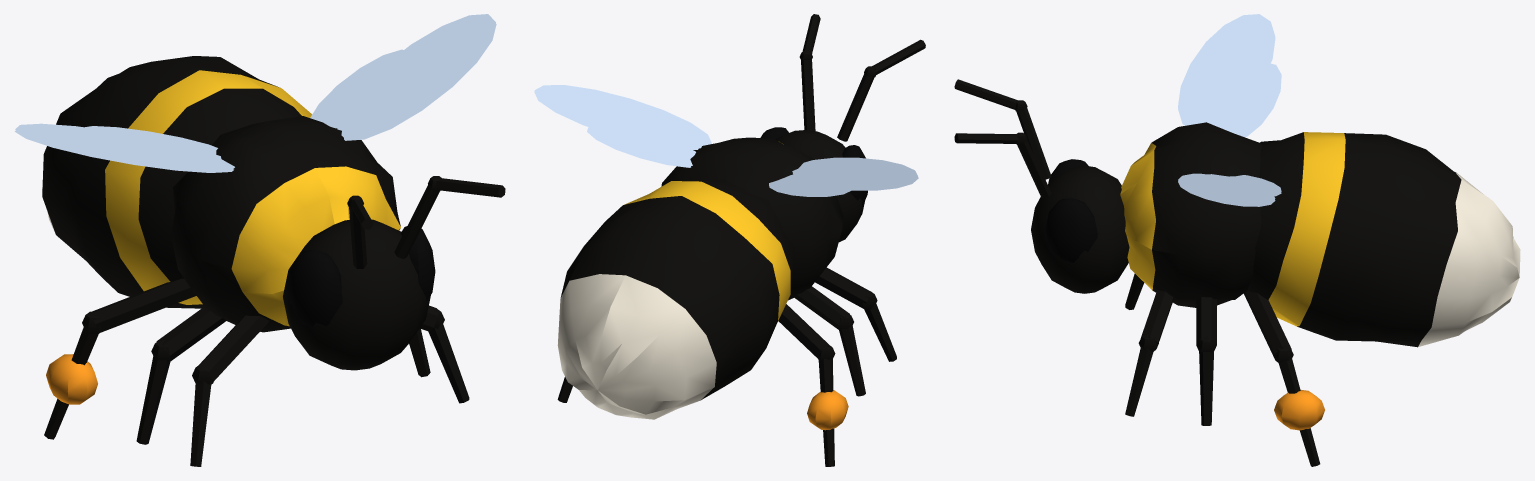
Rendered from bumblebee.obj.
The picture shows the model from 3 angles, left to right: view 1: azimuth 30°, elevation 25°; view 2: azimuth 150°, elevation 25°; view 3: azimuth 270°, elevation 25°; orthographic projection. The views are drawn at different scales.
Visible parts, largest first — view 1: bumblebee; view 2: bumblebee; view 3: bumblebee.
Part boxes in pixels (x1,y1,x2,y2): bumblebee: (14,14,505,466); bumblebee: (534,14,925,466); bumblebee: (954,14,1520,466).
Bounding box in the file's own units: 0.3531 × 0.2512 × 0.4413.
